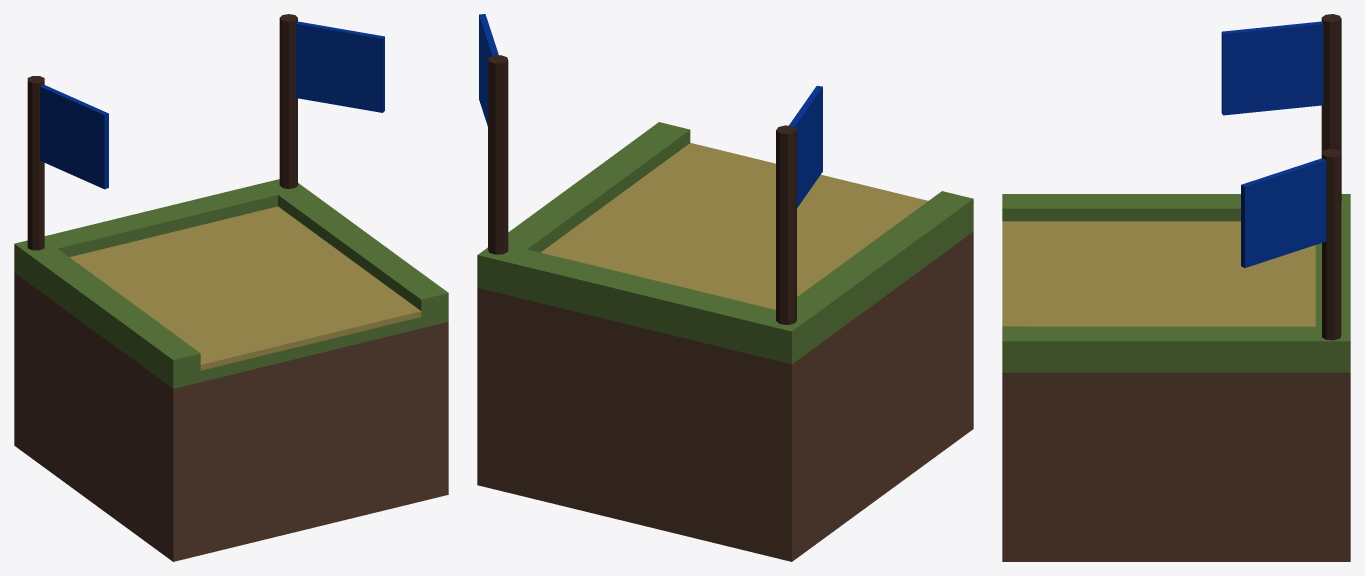
Rendered from Chemin_Fin.fbx.
3 views of the same model, side by side, from view 1: azimuth 30°, elevation 25°; view 2: azimuth 150°, elevation 25°; view 3: azimuth 270°, elevation 25° (orthographic). The views are drawn at different scales.
Visible parts, largest first — view 1: Chemin_CulDeSac.002, Drapeau2.001, Drapeau1; view 2: Chemin_CulDeSac.002, Drapeau1, Drapeau2.001; view 3: Chemin_CulDeSac.002, Drapeau1, Drapeau2.001.
Part boxes in pixels (<box>): Chemin_CulDeSac.002: <box>14,179,448,561</box>; Drapeau2.001: <box>279,14,384,188</box>; Drapeau1: <box>27,76,108,250</box>; Chemin_CulDeSac.002: <box>477,122,973,561</box>; Drapeau1: <box>776,86,822,324</box>; Drapeau2.001: <box>479,14,508,254</box>; Chemin_CulDeSac.002: <box>1002,194,1350,561</box>; Drapeau1: <box>1221,14,1341,201</box>; Drapeau2.001: <box>1241,149,1341,340</box>.
Bounding box in the file's own units: 585 × 640 × 500.
